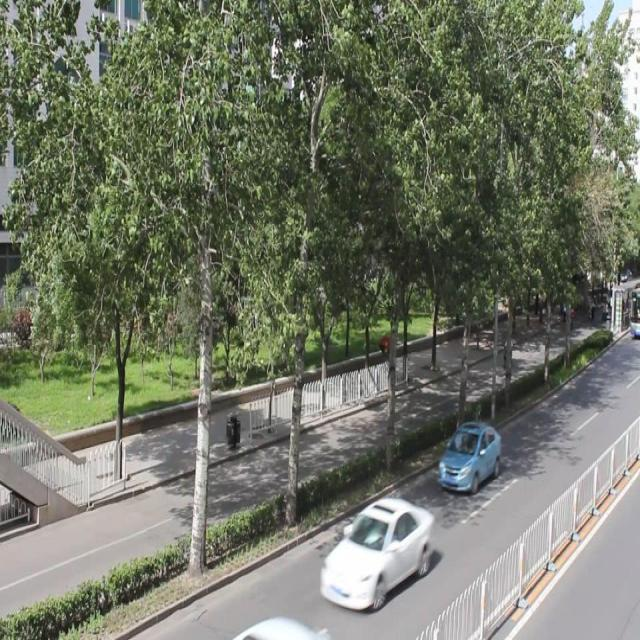car: (318, 494, 432, 608), (436, 417, 501, 492)
